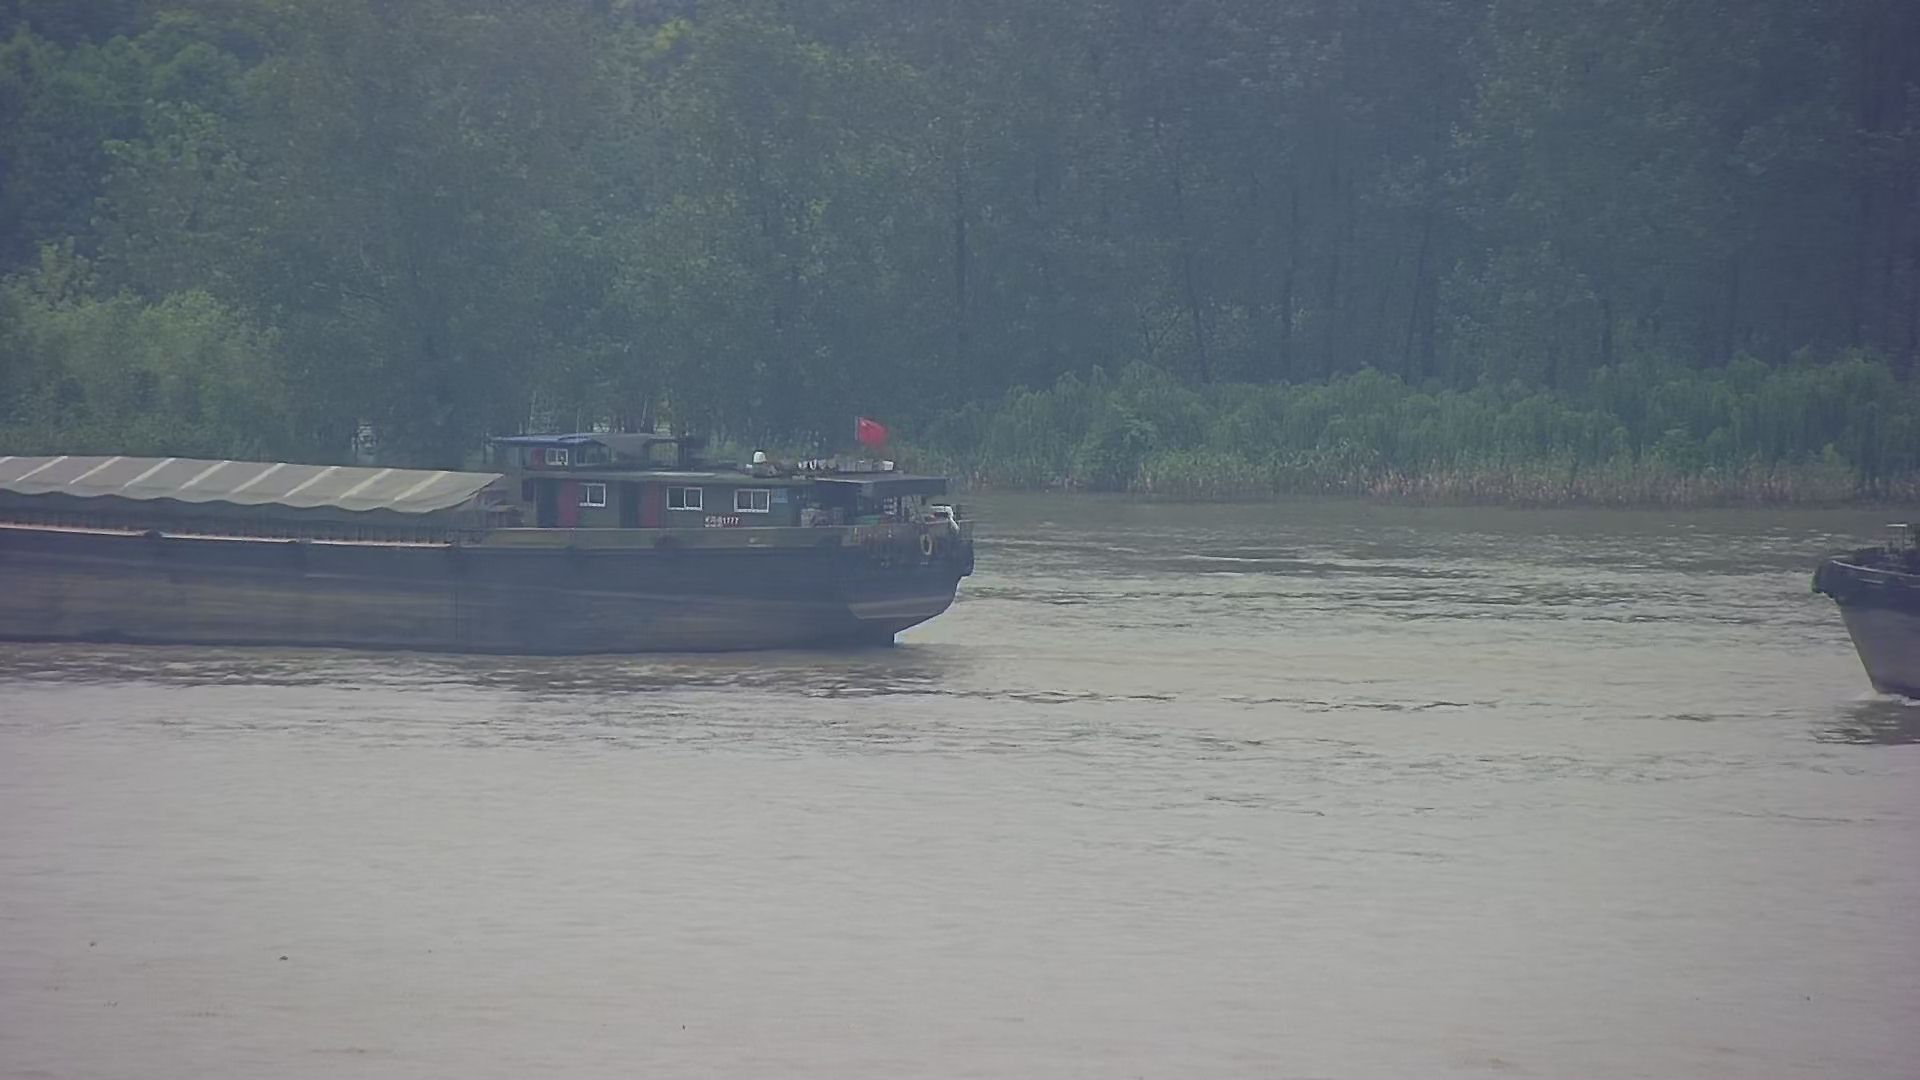ship: (1, 401, 1022, 673)
